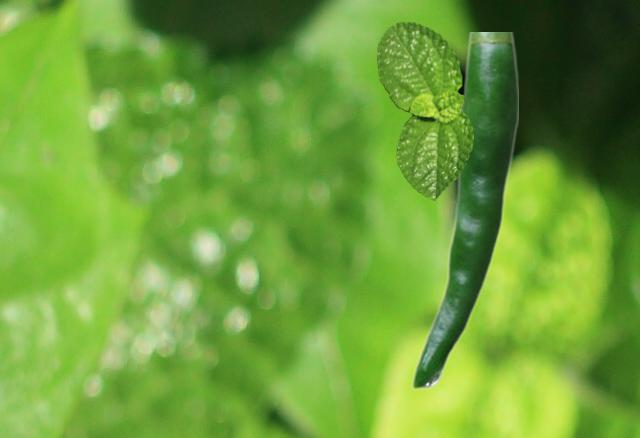green_chili: (410, 32, 517, 389)
